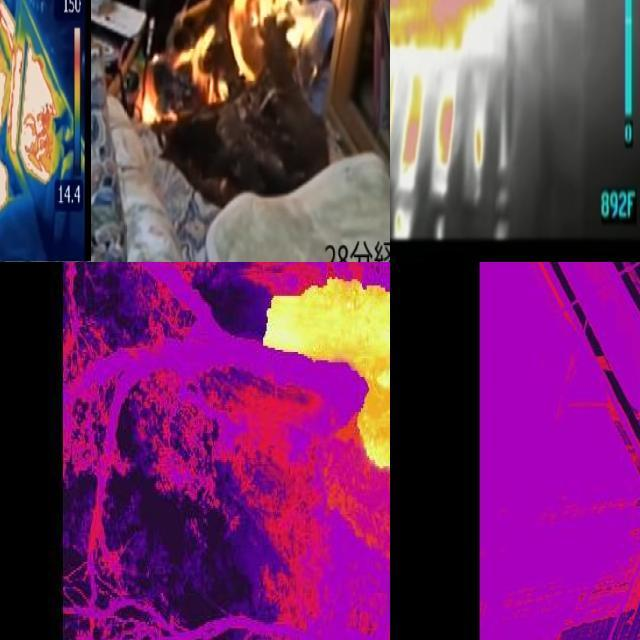fire: (262, 263, 391, 484), (17, 34, 67, 187), (393, 1, 505, 56)
